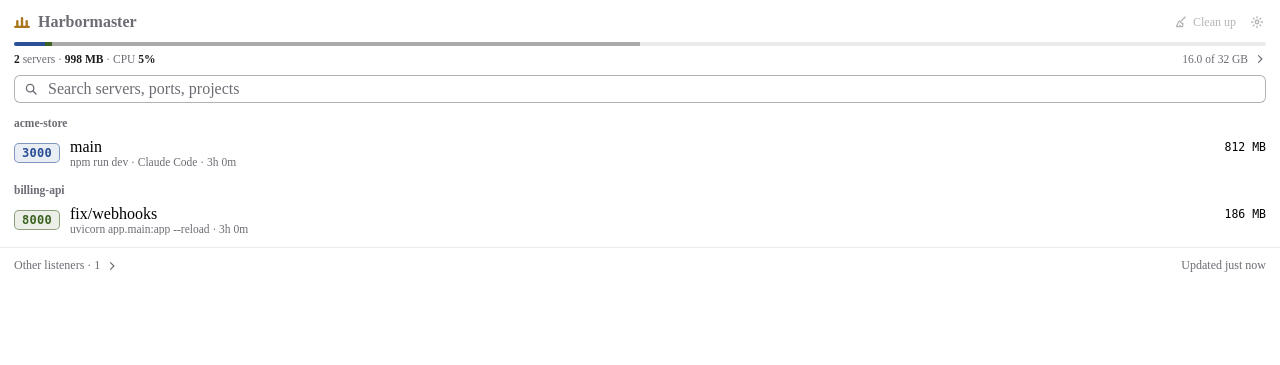
Test case: Panel › names a coding agent the way the rest of the panel does
Click the button "16.0 of 32 GB": click(1224, 59) [1182, 53, 1266, 65]
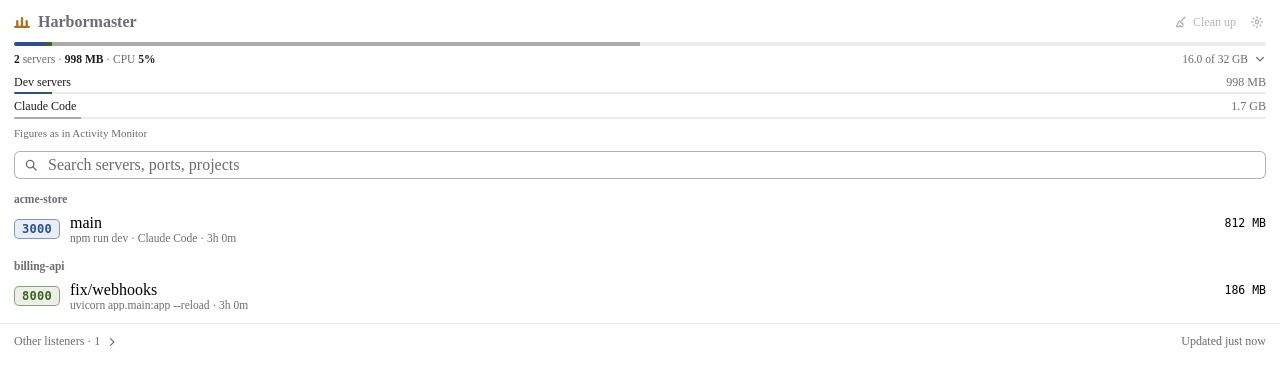
Expected: the text "Claude Code" is shown, [14, 99, 76, 113]
